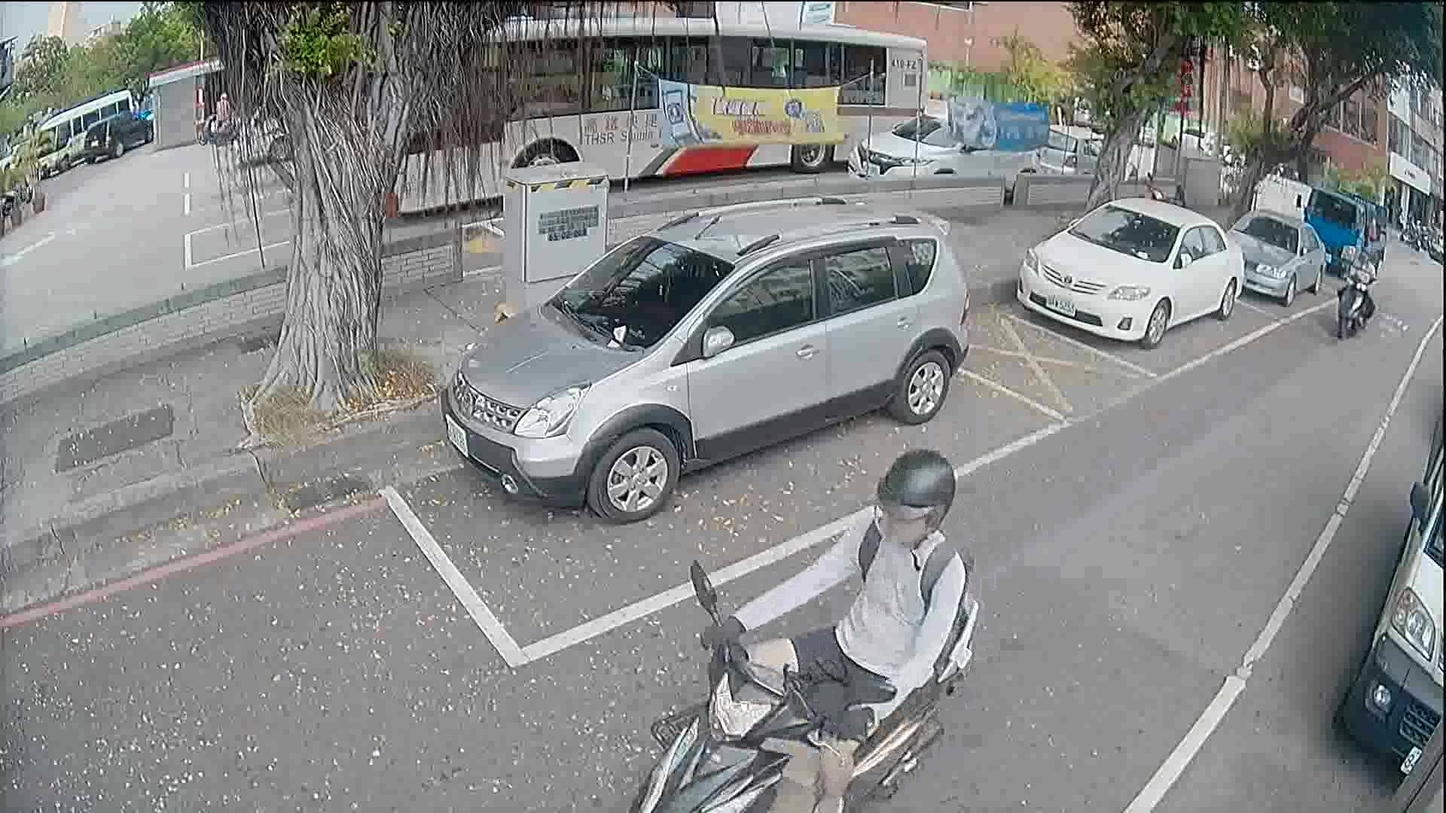person: (696, 442, 965, 812), (1337, 245, 1377, 332), (208, 85, 232, 143)
